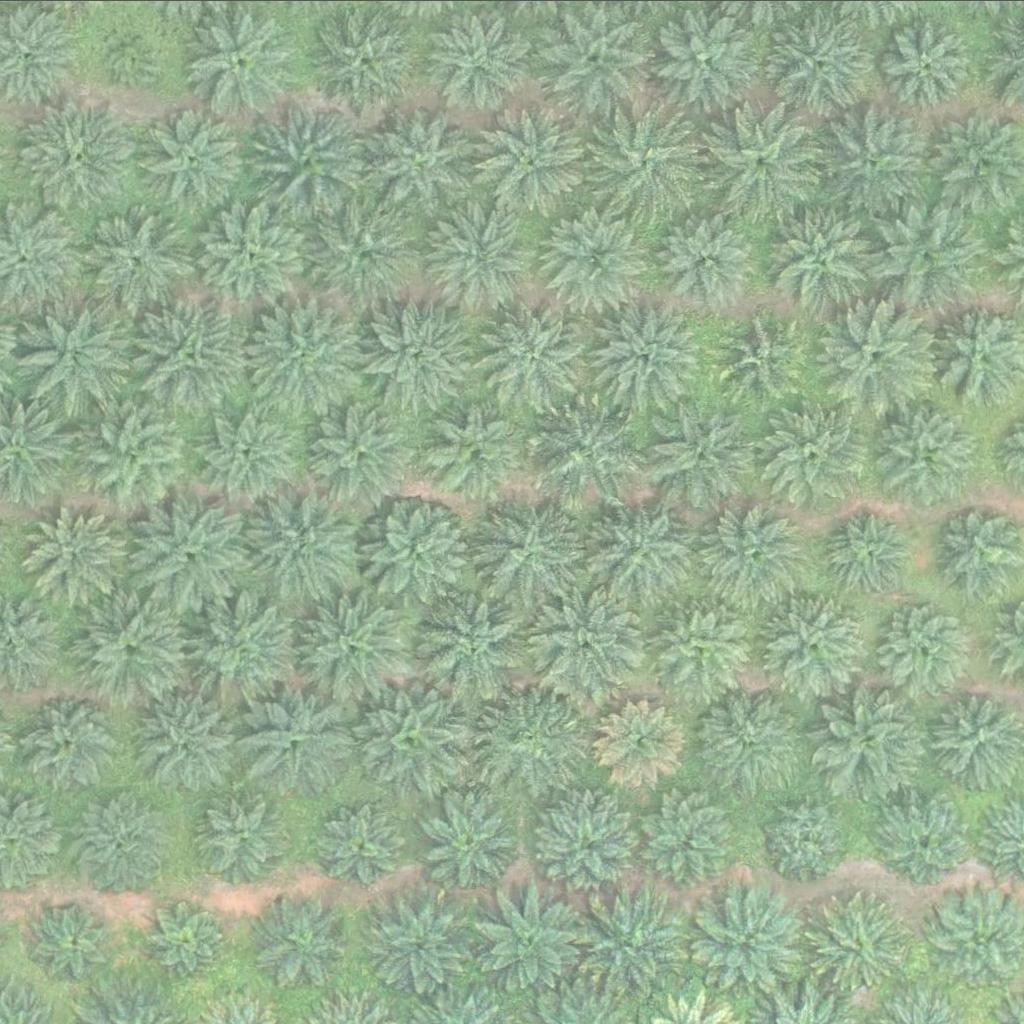Kelapa_Sawit: (474, 883, 588, 996), (75, 400, 189, 513), (133, 295, 247, 408), (251, 295, 365, 408), (307, 196, 421, 309), (422, 195, 536, 308), (697, 886, 811, 999), (14, 296, 127, 409), (15, 687, 128, 800), (128, 686, 241, 799), (241, 680, 354, 793), (355, 680, 468, 793), (296, 590, 409, 703), (422, 588, 535, 701), (532, 585, 645, 698), (364, 299, 477, 412), (482, 292, 595, 405), (541, 199, 654, 312), (185, 3, 298, 116), (307, 6, 420, 119), (708, 104, 821, 217), (813, 105, 926, 218), (762, 202, 875, 315), (585, 493, 698, 606), (572, 885, 685, 998), (197, 195, 311, 307), (362, 103, 476, 215), (479, 104, 593, 216), (540, 1, 654, 113), (23, 98, 136, 210), (477, 680, 590, 792), (74, 595, 187, 707), (190, 592, 303, 704), (134, 493, 247, 605), (246, 487, 359, 599), (358, 493, 471, 605), (471, 498, 584, 610), (301, 394, 414, 506), (531, 397, 644, 509), (79, 201, 192, 313), (255, 103, 368, 215), (588, 109, 701, 221), (767, 6, 880, 118), (869, 197, 982, 309), (818, 299, 931, 411), (757, 400, 870, 512), (652, 4, 765, 116), (585, 300, 698, 412), (644, 396, 757, 508), (820, 678, 933, 790), (23, 501, 124, 601), (247, 888, 348, 988), (372, 893, 473, 993), (197, 787, 298, 887), (420, 794, 521, 894), (424, 397, 525, 497), (144, 105, 245, 205), (877, 401, 978, 501), (699, 504, 800, 604), (650, 593, 751, 693), (636, 786, 737, 886), (696, 684, 797, 784), (71, 790, 171, 890), (536, 794, 636, 894), (202, 402, 302, 502), (427, 10, 527, 110), (762, 594, 862, 694), (873, 596, 973, 696), (812, 892, 912, 992), (719, 313, 808, 401), (140, 892, 228, 980), (316, 802, 404, 890), (597, 698, 685, 786), (933, 692, 1021, 780), (886, 22, 974, 109), (823, 512, 911, 599), (662, 213, 750, 300), (764, 791, 852, 878), (882, 790, 970, 877), (35, 905, 111, 980), (101, 17, 164, 79)
